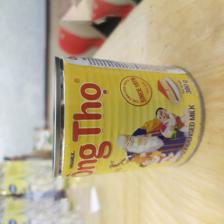Ong_tho: (49, 55, 208, 176)
